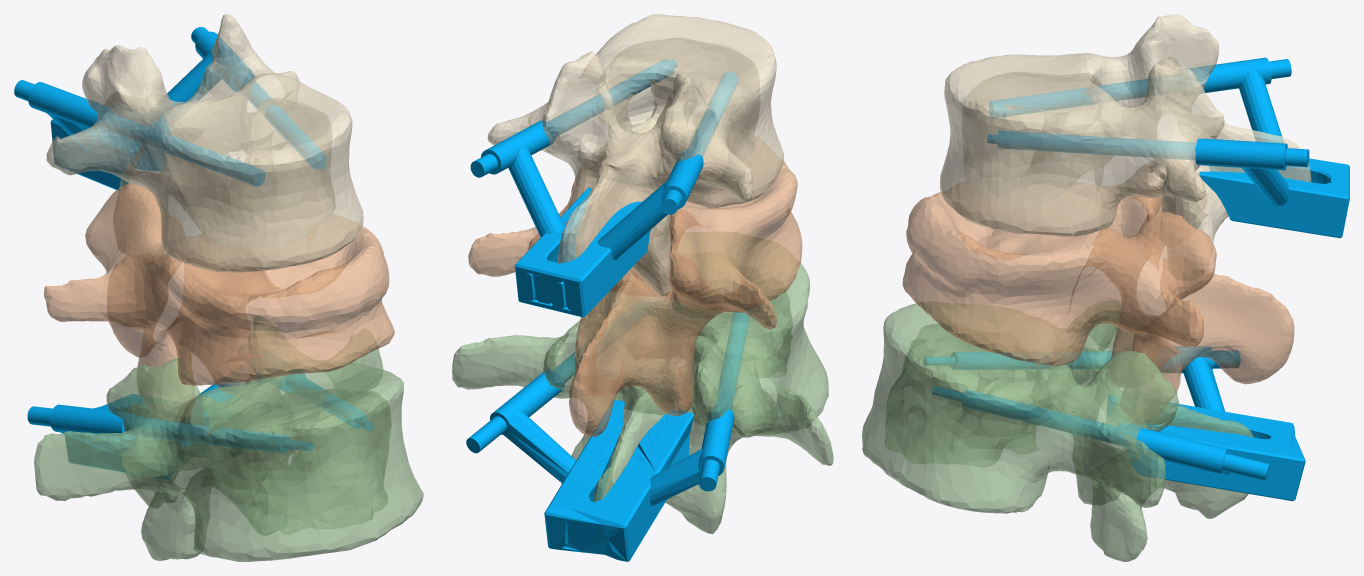
The picture shows the model from 3 angles, left to right: view 1: azimuth 30°, elevation 25°; view 2: azimuth 150°, elevation 25°; view 3: azimuth 270°, elevation 25°; orthographic projection. The views are drawn at different scales.
Visible parts, largest first — view 1: L3, L1, L2, Guide_L1, Guide_L3; view 2: L3, L1, L2, Guide_L3, Guide_L1; view 3: L3, L2, L1, Guide_L1, Guide_L3.
Boxes of the visible parts, x1,y1,x2,y2 form: L3: [34, 316, 423, 561]; L1: [46, 14, 363, 272]; L2: [44, 183, 394, 419]; Guide_L1: [14, 27, 326, 190]; Guide_L3: [27, 374, 373, 479]; L3: [452, 232, 833, 534]; L1: [487, 14, 783, 296]; L2: [468, 136, 802, 436]; Guide_L3: [466, 312, 749, 561]; Guide_L1: [470, 59, 738, 317]; L3: [862, 300, 1253, 561]; L2: [902, 159, 1294, 424]; L1: [940, 14, 1311, 280]; Guide_L1: [987, 57, 1349, 238]; Guide_L3: [923, 346, 1305, 501].
Size of the model in its own units: 0.0936 by 0.1196 by 0.1091.
